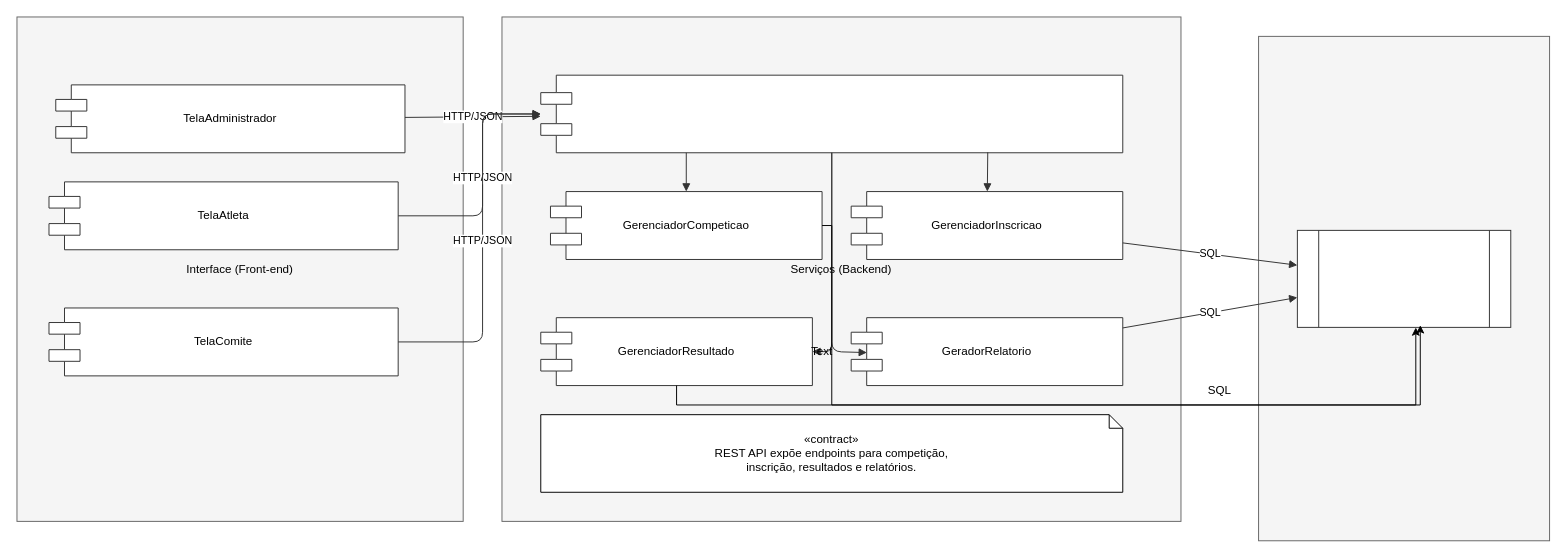
Some shapes in this 1567 by 558 pixel diagram are drawn without their labels. Each missing label, with the centre of its shape:
REST API: the point at 831,113
SGO_DB: the point at 1403,278
